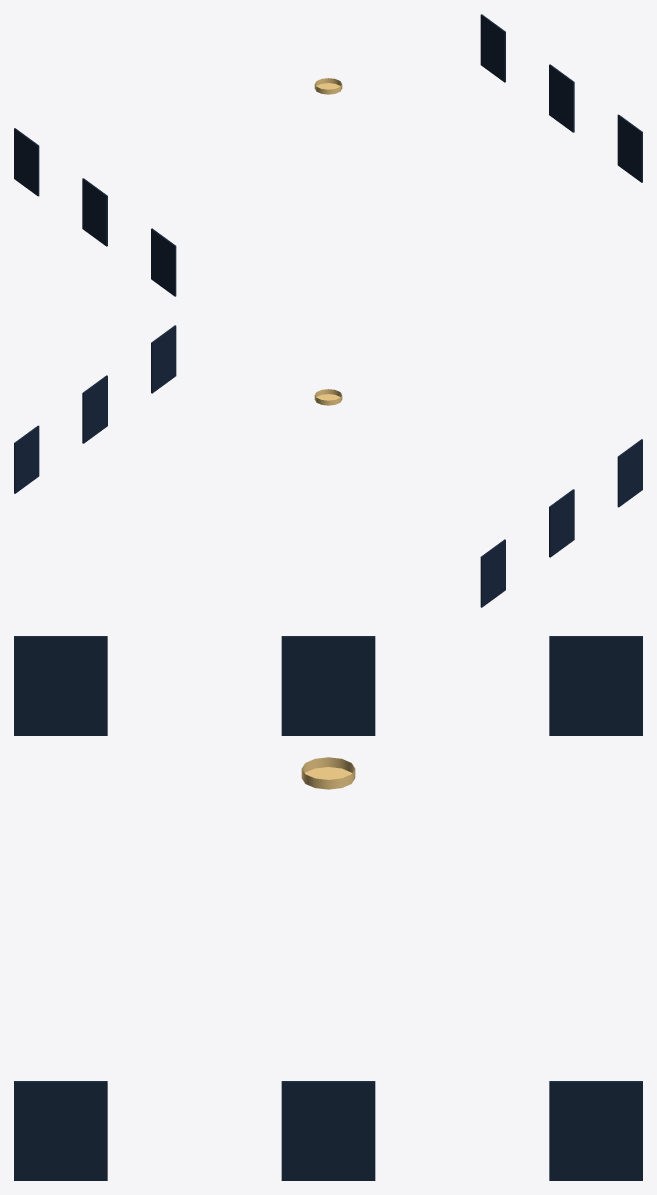
File: SM_Interior_academy_test_room_NoCol.fbx
3 views of the same model, one above another, from view 1: azimuth 30°, elevation 25°; view 2: azimuth 150°, elevation 25°; view 3: azimuth 270°, elevation 25° (orthographic). The views are drawn at different scales.
Parts seen in each view (by area): view 1: SM_Interior_academy_test_room_NoCol; view 2: SM_Interior_academy_test_room_NoCol; view 3: SM_Interior_academy_test_room_NoCol.
Boxes of the visible parts, bbox=[...] form: SM_Interior_academy_test_room_NoCol: bbox=[14, 14, 642, 296]; SM_Interior_academy_test_room_NoCol: bbox=[14, 325, 642, 607]; SM_Interior_academy_test_room_NoCol: bbox=[14, 636, 642, 1180].
Bounding box in the file's own units: 11.84 × 2.34 × 7.05.
